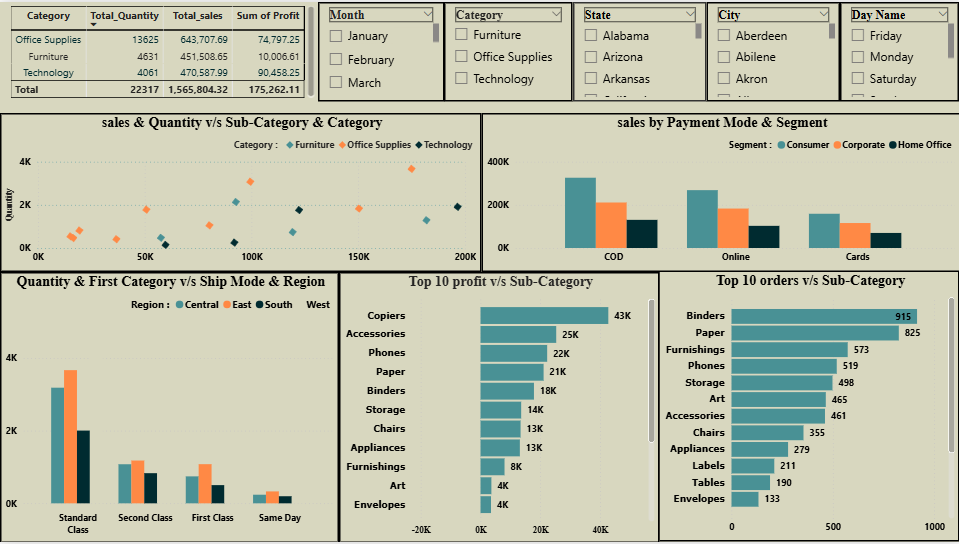

What the dashboard file says about the page in this screenshot:
{"tool":"powerbi","page":{"name":"2","canvas":[1280,720],"ordinal":1},"visuals":[{"type":"tableEx","fields":{"Values":["Sheet1.Category","Sheet1.Total_Quantity","Sheet1.Total_sales","Sum(Sheet1.Profit)"]},"box":[8.1,0,416.1,132.8],"z":0},{"type":"scatterChart","title":"sales & Quantity v/s Sub-Category & Category","fields":{"Category":["Sheet1.Sub-Category"],"X":["Sheet1.Total_sales"],"Y":["Sheet1.Total_Quantity"],"Series":["Sheet1.Category"]},"box":[0,148.3,641.7,211.7],"z":1000},{"type":"clusteredColumnChart","title":"Quantity & First Category v/s Ship Mode & Region","fields":{"Category":["Sheet1.Ship Mode"],"Series":["Sheet1.Region"],"Y":["Sum(Sheet1.Quantity)"]},"box":[0,359.5,451.8,361.1],"z":2000},{"type":"barChart","title":"Top 10 orders v/s Sub-Category","fields":{"Category":["Sheet1.Sub-Category"],"Y":["Sheet1.Total_orders"]},"box":[877.6,357.8,401.6,361.1],"z":3000},{"type":"barChart","title":"Top 10 profit v/s Sub-Category","fields":{"Category":["Sheet1.Sub-Category"],"Y":["Sheet1.Total_profit"]},"box":[451.8,359.5,427.5,361.1],"z":4000},{"type":"clusteredColumnChart","title":"sales by Payment Mode & Segment","fields":{"Category":["Sheet1.Payment Mode"],"Y":["Sheet1.Total_sales"],"Series":["Sheet1.Segment"]},"box":[641.7,148.3,638.3,211.7],"z":5000},{"type":"slicer","fields":{"Values":["Sheet1.Order Date.Variation.Date Hierarchy.Month"]},"box":[424.2,0,168.4,132.8],"z":6000},{"type":"slicer","fields":{"Values":["Sheet1.Category"]},"box":[592.6,0,171.6,132.8],"z":7000},{"type":"slicer","fields":{"Values":["Sheet1.State"]},"box":[764.3,0,178.1,132.8],"z":8000},{"type":"slicer","fields":{"Values":["Sheet1.City"]},"box":[942.4,0,178.1,132.8],"z":9000},{"type":"slicer","fields":{"Values":["Sheet1.Day Name"]},"box":[1120.5,0,158.7,132.8],"z":10000}]}

Visuals, with their boxes in screenshot pixels (x1, y1, x2, y2), scaled from the page's 1280x720 canvas onto the 959x544 screenshot:
tableEx - Sheet1.Category x Sheet1.Total_Quantity: 6/0/318/100
"sales & Quantity v/s Sub-Category & Category" scatterChart: 0/112/481/272
"Quantity & First Category v/s Ship Mode & Region" clusteredColumnChart: 0/272/338/543
"Top 10 orders v/s Sub-Category" barChart: 658/270/958/543
"Top 10 profit v/s Sub-Category" barChart: 338/272/659/543
"sales by Payment Mode & Segment" clusteredColumnChart: 481/112/958/272
slicer - Sheet1.Order Date.Variation.Date Hierarchy.Month: 318/0/444/100
slicer - Sheet1.Category: 444/0/573/100
slicer - Sheet1.State: 573/0/706/100
slicer - Sheet1.City: 706/0/839/100
slicer - Sheet1.Day Name: 839/0/958/100
